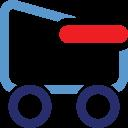bird: (4, 4, 8, 8)
